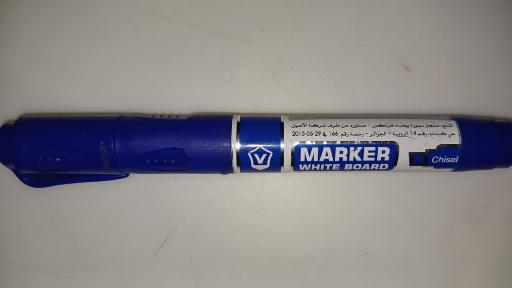Whiteboard marker: (1, 116, 512, 187)
